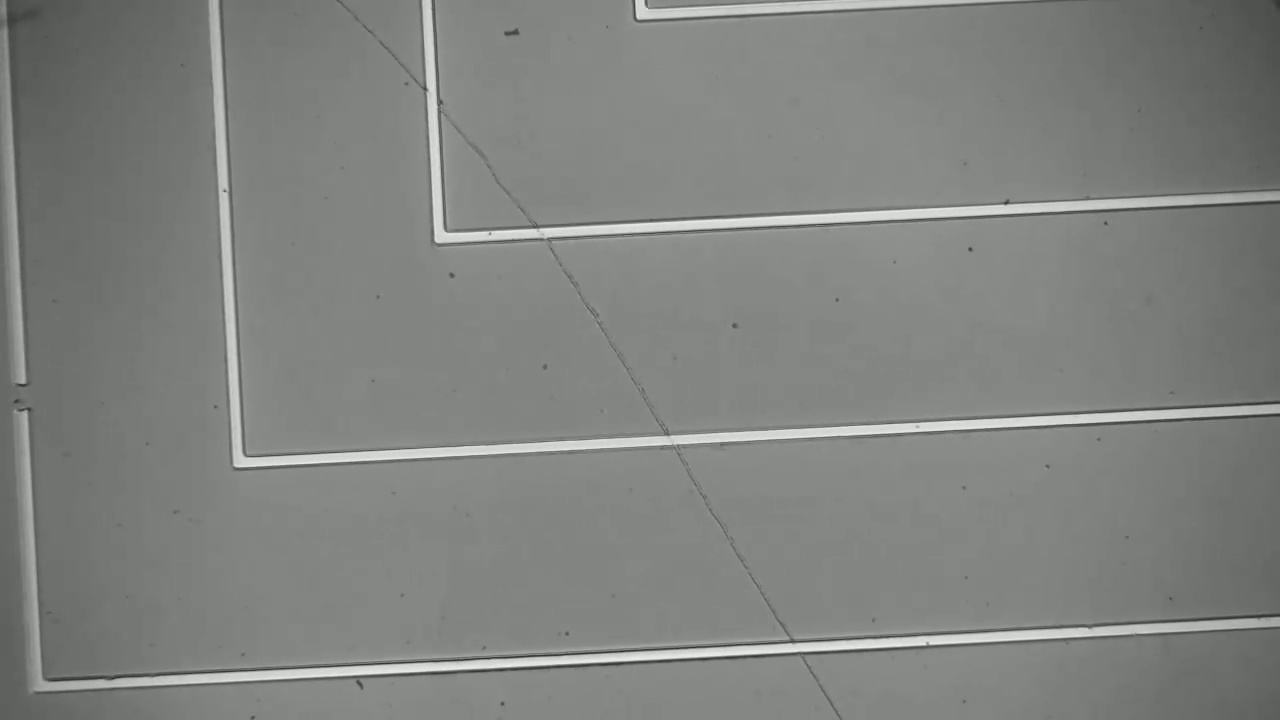open: (1, 363, 52, 434)
scratch: (343, 3, 848, 720)
